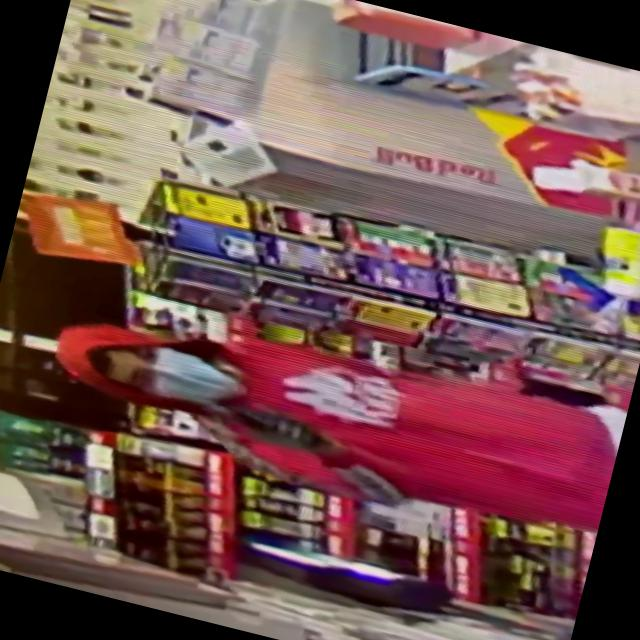handgun: (188, 380, 298, 461)
